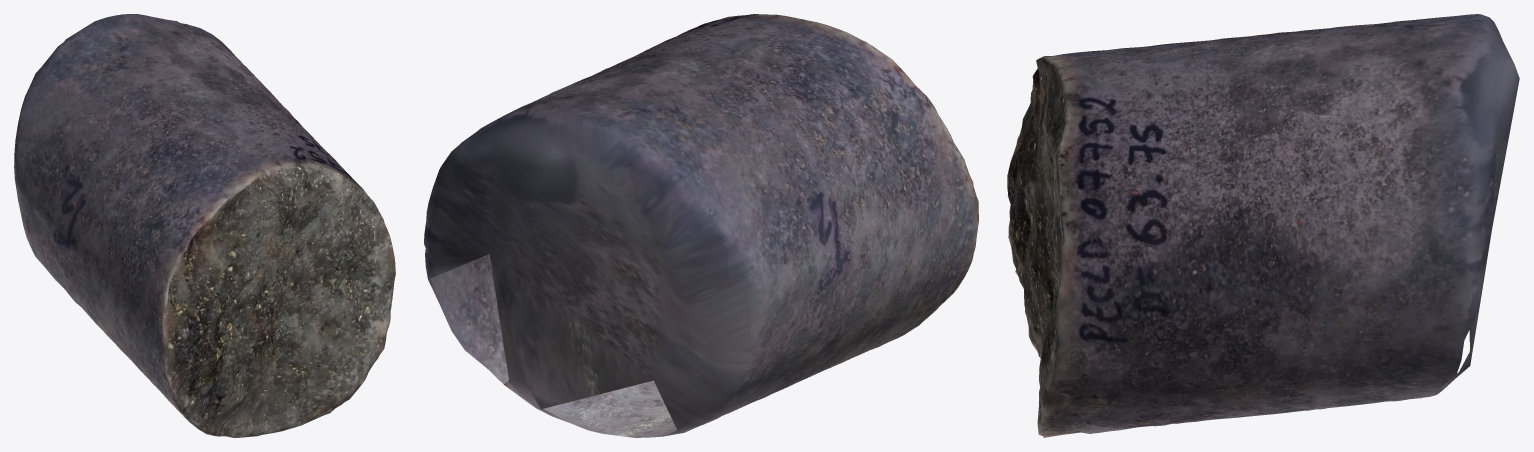
The model's file is PECLD07752 T2.glb.
3 views of the same model, side by side, from view 1: azimuth 30°, elevation 25°; view 2: azimuth 150°, elevation 25°; view 3: azimuth 270°, elevation 25° (orthographic). The views are drawn at different scales.
Visible parts, largest first — view 1: baked_mesh; view 2: baked_mesh; view 3: baked_mesh.
Part boxes in pixels (x1=…): baked_mesh: x1=14, y1=14, x2=395, y2=437; baked_mesh: x1=424, y1=14, x2=978, y2=437; baked_mesh: x1=1007, y1=14, x2=1519, y2=437.
Size of the model in its own units: 0.3308 by 0.3619 by 0.4291.
1 material, 1 textured.
